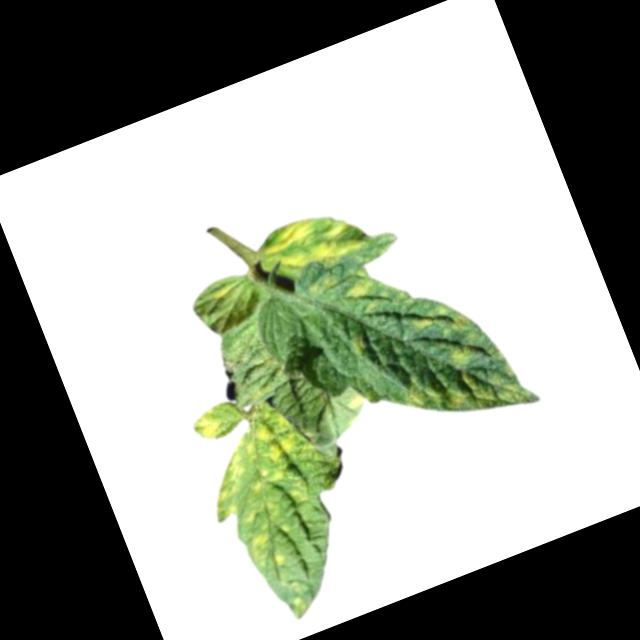Leaf_Mold: (175, 369, 367, 630), (388, 321, 541, 449), (244, 201, 367, 296), (404, 291, 475, 348), (336, 261, 388, 321)
